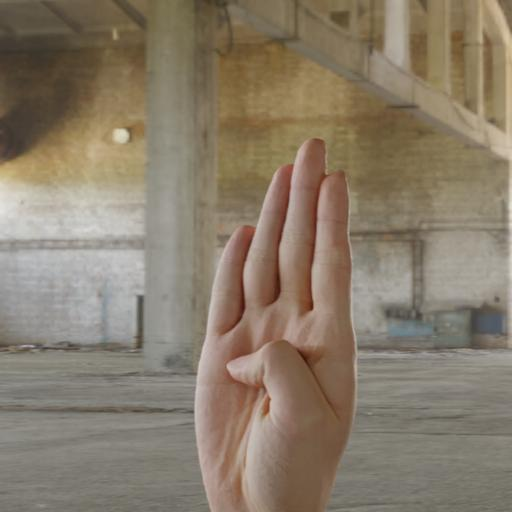B: (187, 132, 372, 512)
